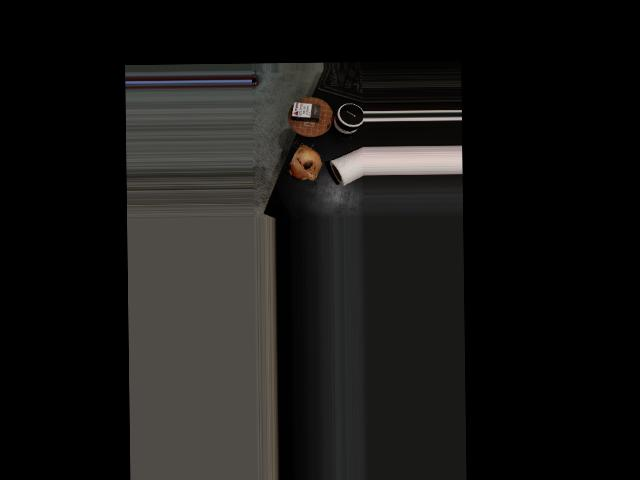onion: (286, 143, 323, 182)
